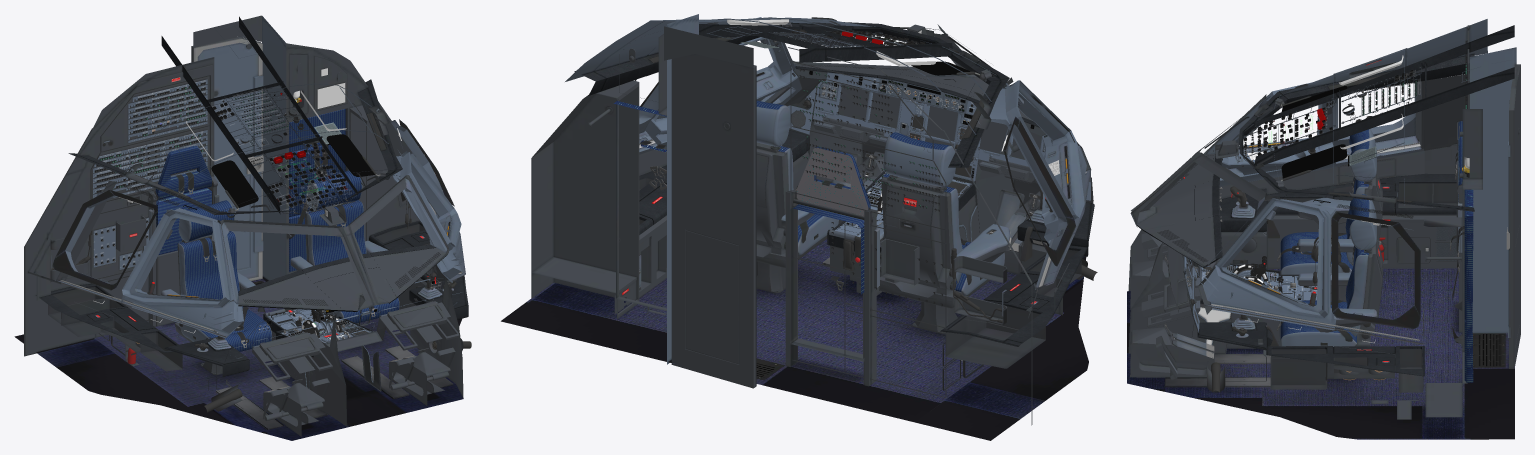
The model's file is interior.gltf.
The picture shows the model from 3 angles, left to right: view 1: azimuth 30°, elevation 25°; view 2: azimuth 150°, elevation 25°; view 3: azimuth 270°, elevation 25°; orthographic projection. The views are drawn at different scales.
Parts seen in each view (by area): view 1: Interior; view 2: Interior; view 3: Interior.
Boxes of the visible parts, x1,y1,x2,y2 form: Interior: (14, 15, 471, 440); Interior: (501, 14, 1097, 440); Interior: (1127, 19, 1520, 439).
Bounding box in the file's own units: 3.25 × 2.13 × 2.57.
43 materials, 39 textured.
